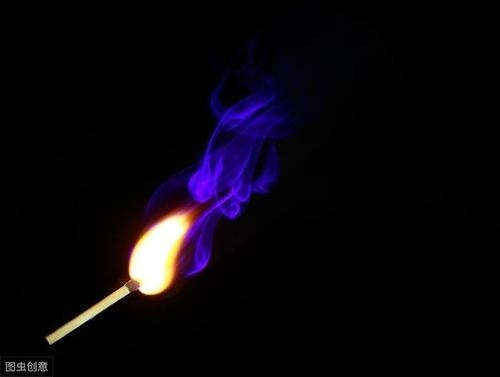fire: (127, 208, 191, 295)
